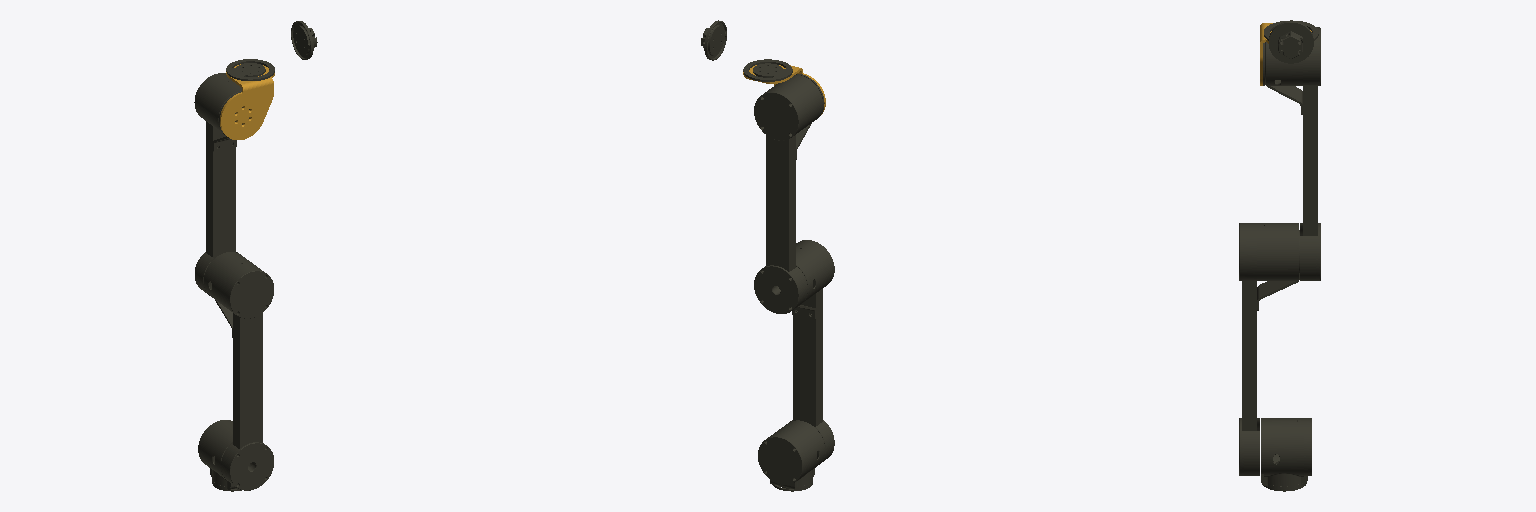
The robot description file, URDF, robot "ulixarm":
<?xml version="1.0" ?>
<!-- =================================================================================== -->
<!-- |    This document was autogenerated by xacro from src/ulixarm_description/urdf/robot.urdf.xacro | -->
<!-- |    EDITING THIS FILE BY HAND IS NOT RECOMMENDED                                 | -->
<!-- =================================================================================== -->
<robot name="ulixarm">
  <!-- CONSTANTS -->
  <!-- LINKS -->
  <link name="manipulator_base_link">
    <visual>
      <origin xyz="0. 0. 0."/>
      <geometry>
        <mesh filename="package://ulixarm_description/meshes/visual/base_link.dae"/>
      </geometry>
    </visual>
    <collision>
      <origin xyz="0. 0. 0."/>
      <geometry>
        <mesh filename="package://ulixarm_description/meshes/collision/base_link.stl"/>
      </geometry>
    </collision>
  </link>
  <link name="manipulator_link1">
    <visual>
      <origin xyz="0. 0. 0."/>
      <geometry>
        <mesh filename="package://ulixarm_description/meshes/visual/link1.dae"/>
      </geometry>
    </visual>
    <collision>
      <origin xyz="0. 0. 0."/>
      <geometry>
        <mesh filename="package://ulixarm_description/meshes/collision/link1.stl"/>
      </geometry>
    </collision>
    <inertial>
      <origin xyz="0. 0.002 0.043"/>
      <mass value="0.575"/>
      <inertia ixx="0.000434" ixy="0.0" ixz="0.0" iyy="0.000387" iyz="0.0" izz="0.000326"/>
    </inertial>
  </link>
  <link name="manipulator_link2">
    <visual>
      <origin xyz="0. 0. 0."/>
      <geometry>
        <mesh filename="package://ulixarm_description/meshes/visual/link2.dae"/>
      </geometry>
    </visual>
    <collision>
      <origin xyz="0. 0. 0."/>
      <geometry>
        <mesh filename="package://ulixarm_description/meshes/collision/link2.stl"/>
      </geometry>
    </collision>
    <inertial>
      <origin xyz="0.207 0. -0.005"/>
      <mass value="0.887"/>
      <inertia ixx="0.000679" ixy="0.0" ixz="0.001200" iyy="0.010762" iyz="0.0" izz="0.010534"/>
    </inertial>
  </link>
  <link name="manipulator_link3">
    <visual>
      <origin xyz="0. 0. 0."/>
      <geometry>
        <mesh filename="package://ulixarm_description/meshes/visual/link3.dae"/>
      </geometry>
    </visual>
    <collision>
      <origin xyz="0. 0. 0."/>
      <geometry>
        <mesh filename="package://ulixarm_description/meshes/collision/link3.stl"/>
      </geometry>
    </collision>
    <inertial>
      <origin xyz="0.202 0. -0.004"/>
      <mass value="0.819"/>
      <inertia ixx="0.000572" ixy="0.0" ixz="0.001045" iyy="0.010133" iyz="0.0" izz="0.009994"/>
    </inertial>
  </link>
  <link name="manipulator_link4">
    <visual>
      <origin xyz="0. 0. 0."/>
      <geometry>
        <mesh filename="package://ulixarm_description/meshes/visual/link4.dae"/>
      </geometry>
    </visual>
    <collision>
      <origin xyz="0. 0. 0."/>
      <geometry>
        <mesh filename="package://ulixarm_description/meshes/collision/link4.stl"/>
      </geometry>
    </collision>
    <inertial>
      <origin xyz="0.024 -0.017 -0.012"/>
      <mass value="0.175"/>
      <inertia ixx="0.000187" ixy="0.000068" ixz="0.000068" iyy="0.000206" iyz="-0.000047" izz="0.000235"/>
    </inertial>
  </link>
  <link name="manipulator_link5">
    <visual>
      <origin xyz="0. 0. 0."/>
      <geometry>
        <mesh filename="package://ulixarm_description/meshes/visual/link5.dae"/>
      </geometry>
    </visual>
    <collision>
      <origin xyz="0. 0. 0."/>
      <geometry>
        <mesh filename="package://ulixarm_description/meshes/collision/link5.stl"/>
      </geometry>
    </collision>
    <inertial>
      <origin xyz="0.028 0. -0.027"/>
      <mass value="0.786"/>
      <inertia ixx="0.000379" ixy="0.0" ixz="0.0" iyy="0.001085" iyz="0.0" izz="0.001097"/>
    </inertial>
  </link>
  <link name="manipulator_link6">
    <visual>
      <origin xyz="0. 0. 0."/>
      <geometry>
        <mesh filename="package://ulixarm_description/meshes/visual/link6.dae"/>
      </geometry>
    </visual>
    <inertial>
      <origin xyz="0. 0. 0.007"/>
      <mass value="0.025"/>
      <inertia ixx="0.000001" ixy="0.0" ixz="0.0" iyy="0.000001" iyz="0.0" izz="0.000001"/>
    </inertial>
  </link>
  <link name="manipulator_tool0">
    <inertial>
      <origin xyz="0. 0. 0."/>
      <mass value="0.001"/>
      <inertia ixx="0.000004" ixy="0.0" ixz="0.0" iyy="0.000003" iyz="0.0" izz="0.000006"/>
    </inertial>
  </link>
  <!-- JOINTS -->
  <joint name="joint1" type="revolute">
    <origin rpy="0. 0. 0." xyz="0. 0. 0.0645"/>
    <parent link="manipulator_base_link"/>
    <child link="manipulator_link1"/>
    <axis xyz="0 0 1"/>
    <limit effort="27.0" lower="-1.8326" upper="1.8326" velocity="8.0"/>
  </joint>
  <joint name="joint2" type="revolute">
    <origin rpy="1.570796326795 -1.570796326795 0." xyz="0. -0.031175 0.0495"/>
    <parent link="manipulator_link1"/>
    <child link="manipulator_link2"/>
    <axis xyz="0 0 1"/>
    <limit effort="27.0" lower="-1.570796326795" upper="1.25664" velocity="8.0"/>
  </joint>
  <joint name="joint3" type="revolute">
    <origin rpy="0. 3.14159265359 3.14159265359" xyz="0.280 0. -0.0523"/>
    <parent link="manipulator_link2"/>
    <child link="manipulator_link3"/>
    <axis xyz="0 0 1"/>
    <limit effort="27.0" lower="-1.570796326795" upper="2.82743" velocity="8.0"/>
  </joint>
  <joint name="joint4" type="revolute">
    <origin rpy="0. 3.14159265359 3.14159265359" xyz="0.280 0. -0.046"/>
    <parent link="manipulator_link3"/>
    <child link="manipulator_link4"/>
    <axis xyz="0 0 1"/>
    <limit effort="10.0" lower="-1.570796326795" upper="2.61799" velocity="30.0"/>
  </joint>
  <joint name="joint5" type="revolute">
    <origin rpy="1.570796326795 0. -1.570796326795" xyz="0.052 -0.036 -0.034"/>
    <parent link="manipulator_link4"/>
    <child link="manipulator_link5"/>
    <axis xyz="0 0 -1"/>
    <limit effort="10.0" lower="-1.8326" upper="1.8326" velocity="30.0"/>
  </joint>
  <joint name="joint6" type="revolute">
    <origin rpy="3.14159265359 -1.570796326795 0." xyz="0.0855 0. -0.0265"/>
    <parent link="manipulator_link5"/>
    <child link="manipulator_link6"/>
    <axis xyz="0 0 1"/>
    <limit effort="10.0" lower="-2.93215" upper="2.93215" velocity="30.0"/>
  </joint>
  <joint name="joint_tool0" type="fixed">
    <origin rpy="0. 0. 0." xyz="0. 0. 0.005"/>
    <parent link="manipulator_link6"/>
    <child link="manipulator_tool0"/>
  </joint>
</robot>

--- Render facts (derived) ---
The picture shows the robot from 3 angles, left to right: view 1: azimuth 30°, elevation 25°; view 2: azimuth 150°, elevation 25°; view 3: azimuth 270°, elevation 25°; orthographic projection.
Robot: ulixarm — 8 links, 7 joints (6 revolute, 1 fixed); root link manipulator_base_link; default pose: every joint at zero.
Links seen in each view (by area): view 1: manipulator_link2, manipulator_link3, manipulator_link4, manipulator_link1, manipulator_link6; view 2: manipulator_link3, manipulator_link2, manipulator_link1, manipulator_link4, manipulator_link6; view 3: manipulator_link2, manipulator_link3, manipulator_link1, manipulator_link6, manipulator_link4.
Boxes of the visible links, x1,y1,x2,y2 form: manipulator_link2: [204, 252, 273, 490]; manipulator_link3: [194, 73, 241, 295]; manipulator_link4: [219, 59, 274, 139]; manipulator_link1: [198, 420, 241, 491]; manipulator_link6: [291, 21, 317, 59]; manipulator_link3: [754, 75, 822, 313]; manipulator_link2: [790, 240, 834, 464]; manipulator_link1: [758, 420, 824, 491]; manipulator_link4: [743, 59, 825, 119]; manipulator_link6: [701, 20, 726, 60]; manipulator_link2: [1239, 223, 1299, 475]; manipulator_link3: [1265, 27, 1320, 280]; manipulator_link1: [1261, 418, 1311, 491]; manipulator_link6: [1269, 21, 1313, 63]; manipulator_link4: [1260, 20, 1318, 85].
Bounding box of the posed robot: 0.1785 × 0.1053 × 0.7175 m (x, y, z).
Meshes: 7 distinct files referenced, 5 mesh visuals loaded (5 Collada DAE); not drawn: 1 (reference not matched to a file when rendering), 1 (file found but could not be loaded).
